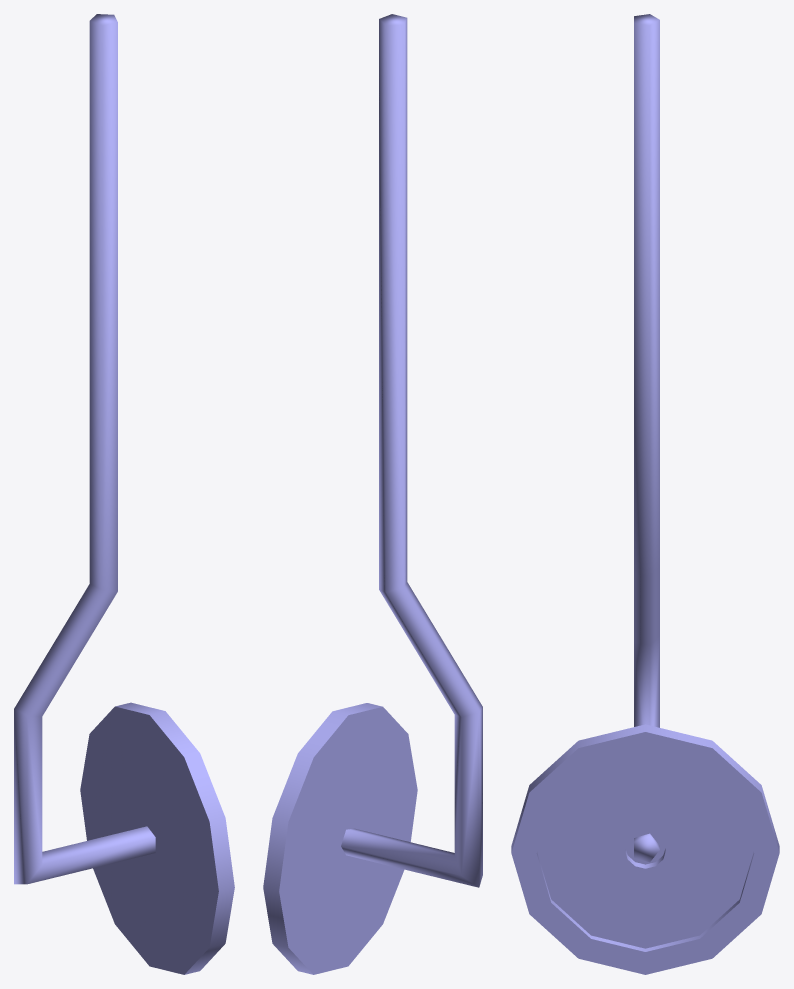
The model's file is original-135.obj.
3 views of the same model, side by side, from view 1: azimuth 30°, elevation 25°; view 2: azimuth 150°, elevation 25°; view 3: azimuth 270°, elevation 25° (orthographic). The views are drawn at different scales.
Visible parts, largest first — view 1: Component_55_4/Component_55_1_2/mesh107/mesh107-geometry#mesh107; view 2: Component_55_4/Component_55_1_2/mesh107/mesh107-geometry#mesh107; view 3: Component_55_4/Component_55_1_2/mesh107/mesh107-geometry#mesh107.
Boxes of the visible parts, x1,y1,x2,y2 form: Component_55_4/Component_55_1_2/mesh107/mesh107-geometry#mesh107: [14, 14, 234, 974]; Component_55_4/Component_55_1_2/mesh107/mesh107-geometry#mesh107: [263, 14, 482, 974]; Component_55_4/Component_55_1_2/mesh107/mesh107-geometry#mesh107: [511, 14, 779, 974].
Bounding box in the file's own units: 0.045 × 0.2762 × 0.0725.
